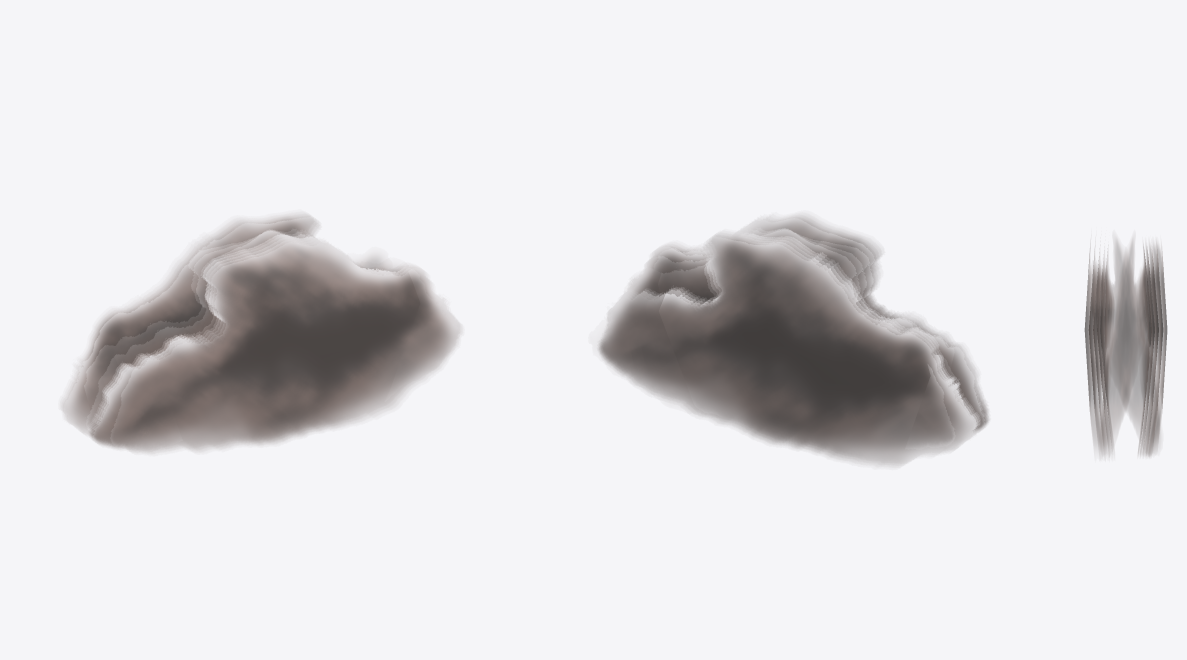
The model's file is model-evening.glb.
3 renders of one model, left to right at view 1: azimuth 30°, elevation 25°; view 2: azimuth 150°, elevation 25°; view 3: azimuth 270°, elevation 25°, orthographic. The views are drawn at different scales.
Parts seen in each view (by area): view 1: cloud-1.004, cloud-1.002, cloud-1.001, cloud-1; view 2: cloud-1.004, cloud-1.001, cloud-1, cloud-1.002; view 3: cloud-1.004, cloud-1.001, cloud-1.002.
Boxes of the visible parts, x1,y1,x2,y2 form: cloud-1.004: (62,215,459,451); cloud-1.002: (108,254,228,380); cloud-1.001: (113,256,384,444); cloud-1: (89,256,397,426); cloud-1.004: (599,216,988,464); cloud-1.001: (607,252,985,410); cloud-1: (645,255,848,301); cloud-1.002: (668,255,952,441); cloud-1.004: (1084,243,1167,456); cloud-1.001: (1096,240,1159,440); cloud-1.002: (1102,240,1145,438).
Size of the model in its own units: 7.22 by 7.22 by 1.43.
12 materials, 12 textured.
